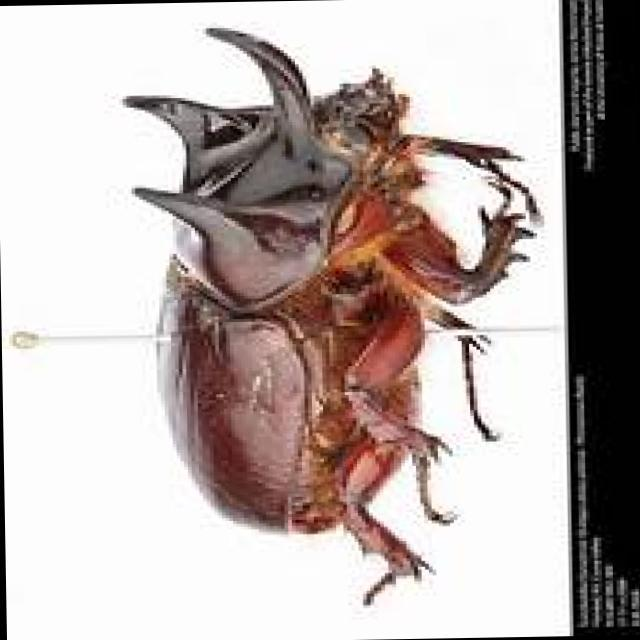Rhino-beetle: (109, 19, 559, 610)
